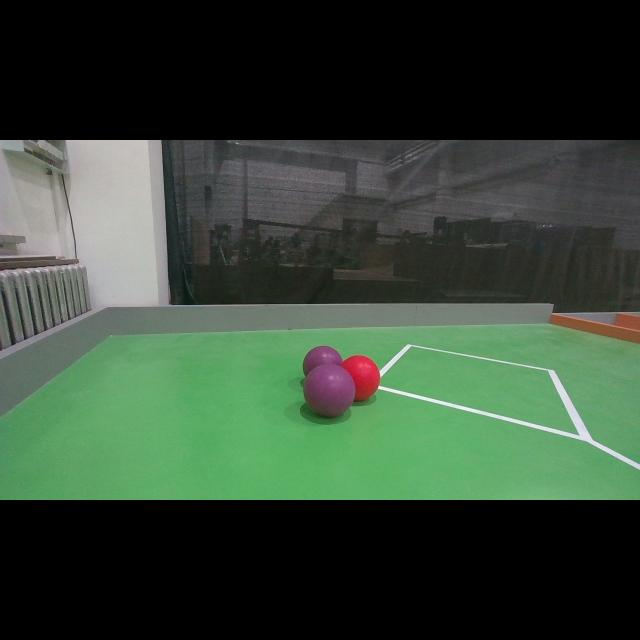P: (304, 364, 356, 416), (303, 345, 347, 381)
R: (340, 356, 380, 400)
